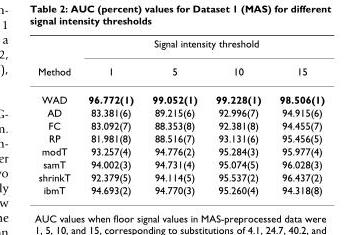table: (37, 37, 324, 195)
table column: (78, 37, 142, 195), (205, 37, 269, 195), (142, 37, 205, 195), (269, 37, 324, 195), (37, 37, 78, 195)
table column header: (37, 37, 324, 85)
table row: (37, 57, 324, 85), (37, 37, 324, 57), (37, 85, 324, 105), (37, 105, 324, 118), (37, 118, 324, 131), (37, 131, 324, 144), (37, 144, 324, 157), (37, 157, 324, 170), (37, 170, 324, 183), (37, 183, 324, 195)
table spanning cell: (78, 37, 324, 57), (37, 37, 78, 85)
